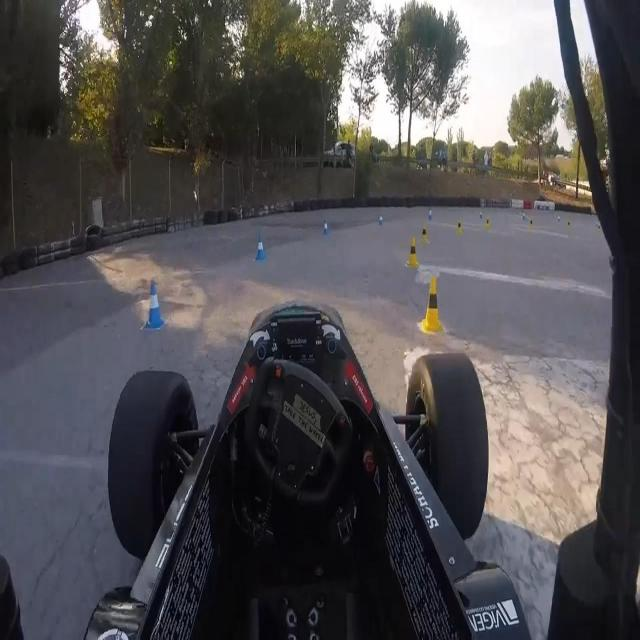blue_cone: (142, 268, 166, 334), (251, 229, 270, 261), (318, 210, 333, 244)
yellow_cone: (418, 273, 448, 334), (408, 236, 424, 272)
